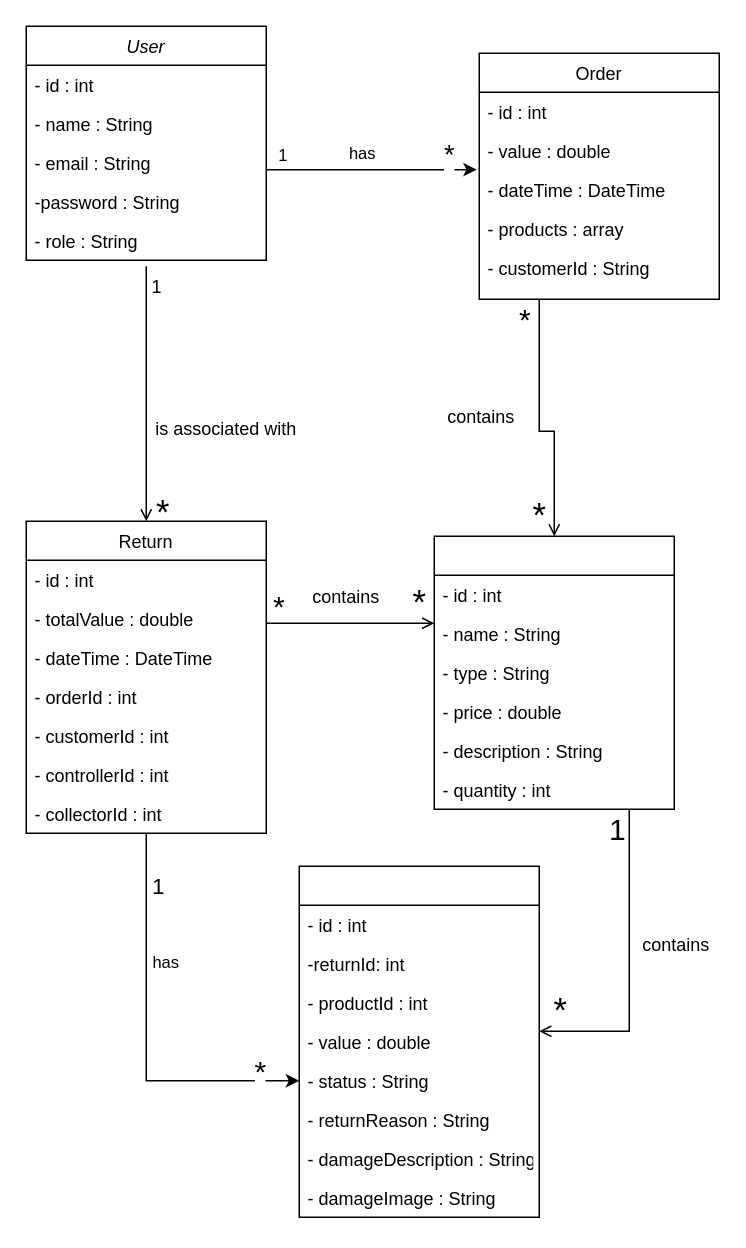
Some shapes in this 746 by 1248 pixel diagram are drawn without their labels. The box of each missing label's shape, as (x1, y1, x2, y2) in pixels:
Product: (433, 535, 674, 809)
Return-item: (298, 865, 539, 1217)
